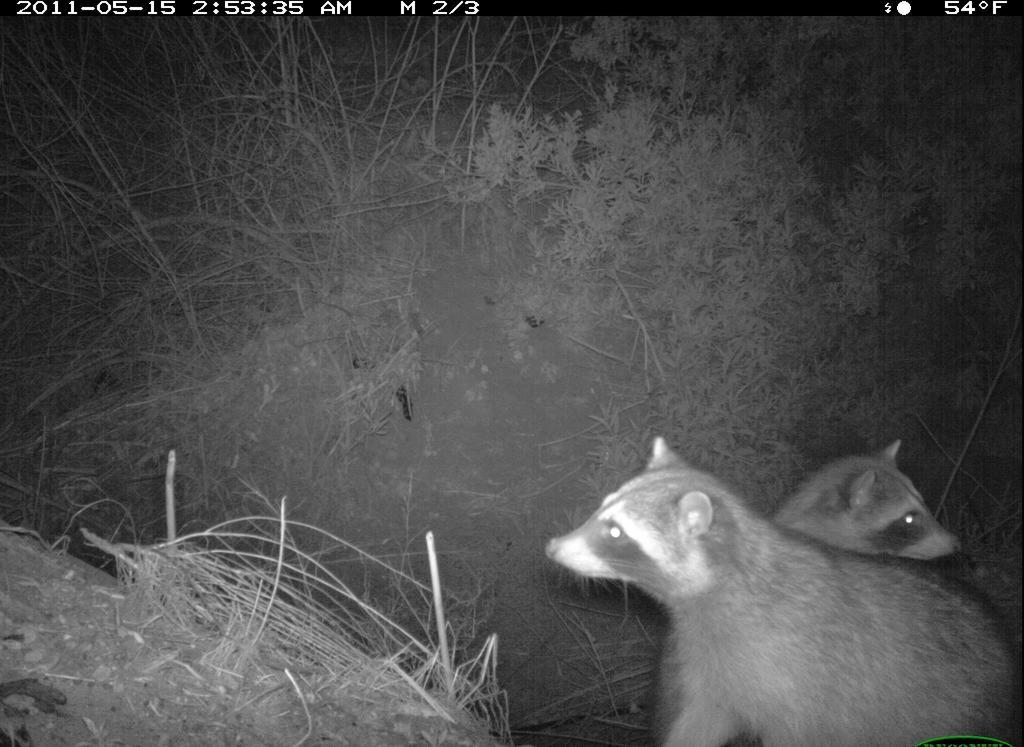raccoon: (538, 434, 1022, 740), (660, 440, 976, 747)
